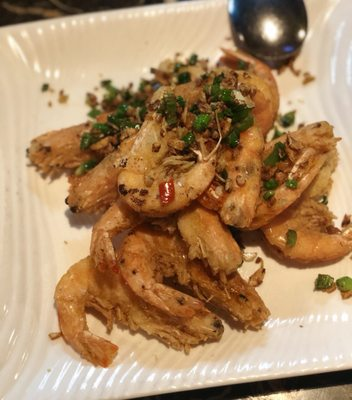sushi: (2, 0, 339, 348)
